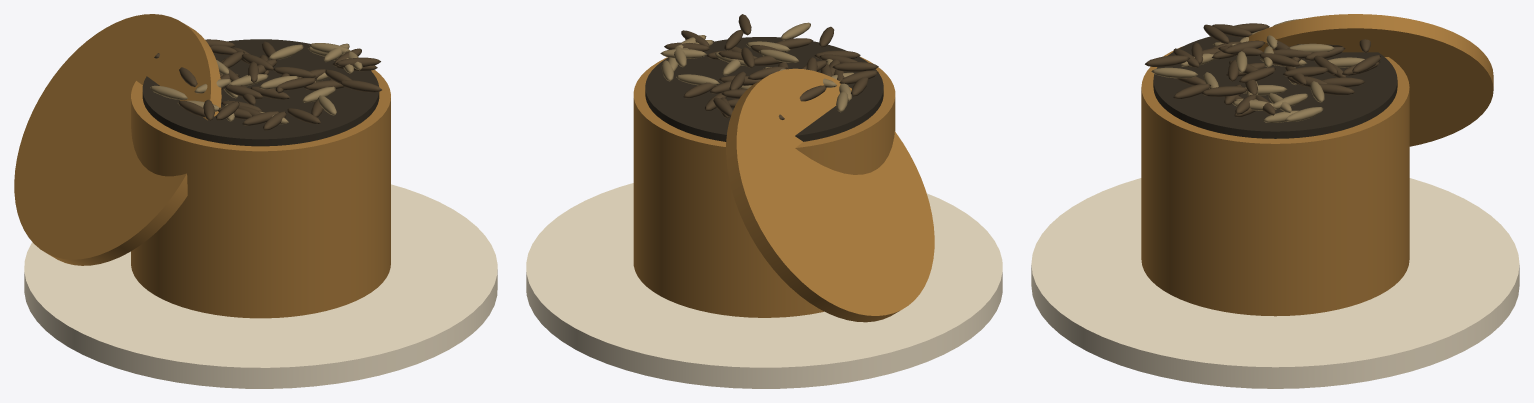
Rendered from shan-tea-v1.glb.
3 views of the same model, side by side, from view 1: azimuth 30°, elevation 25°; view 2: azimuth 150°, elevation 25°; view 3: azimuth 270°, elevation 25° (orthographic). The views are drawn at different scales.
Visible parts, largest first — view 1: shan-tea-concept; view 2: shan-tea-concept; view 3: shan-tea-concept.
Boxes of the visible parts, bbox=[...] form: shan-tea-concept: bbox=[14, 14, 497, 388]; shan-tea-concept: bbox=[526, 14, 1002, 388]; shan-tea-concept: bbox=[1031, 14, 1519, 388].
Bounding box in the file's own units: 2.44 × 1.4 × 2.44.
